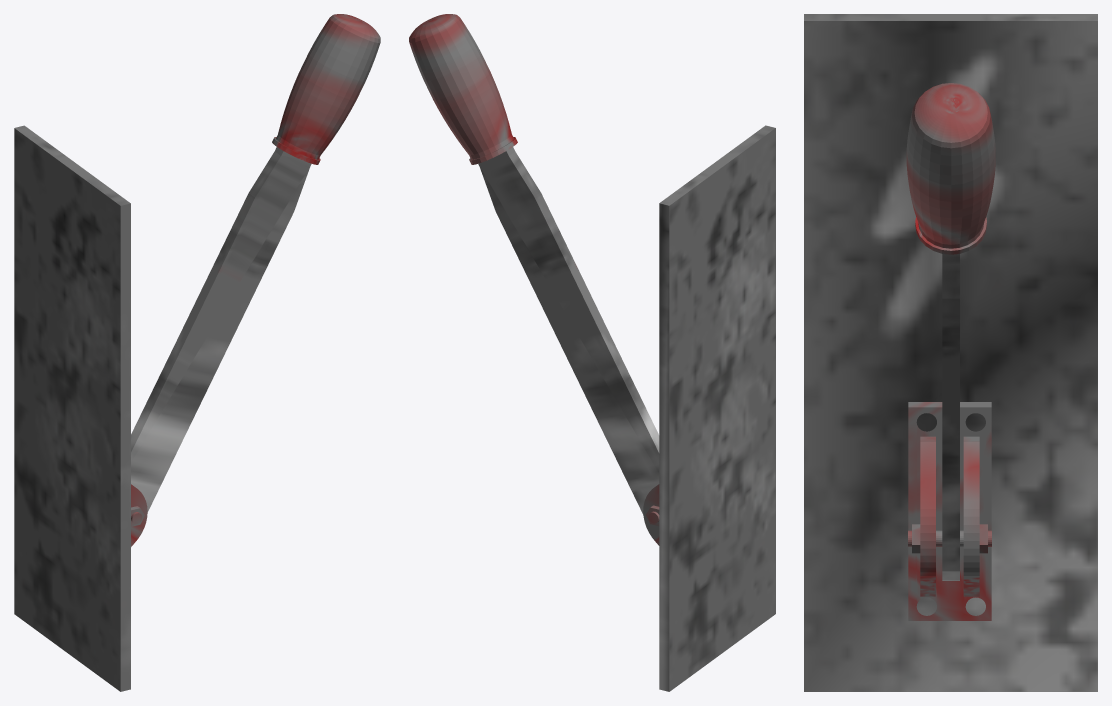
File: Circuit Board.fbx
3 views of the same model, side by side, from view 1: azimuth 30°, elevation 25°; view 2: azimuth 150°, elevation 25°; view 3: azimuth 270°, elevation 25° (orthographic). The views are drawn at different scales.
Parts seen in each view (by area): view 1: Board, Lever; view 2: Board, Lever; view 3: Board, Lever.
Part boxes in pixels (left/top/right/bottom): Board: left=14, top=125, right=147, bottom=691; Lever: left=131, top=14, right=380, bottom=511; Board: left=643, top=125, right=775, bottom=691; Lever: left=409, top=14, right=659, bottom=514; Board: left=804, top=14, right=1097, bottom=691; Lever: left=906, top=83, right=995, bottom=580.
Size of the model in its own units: 38.39 by 67.34 by 22.86.
1 material, 1 textured.
